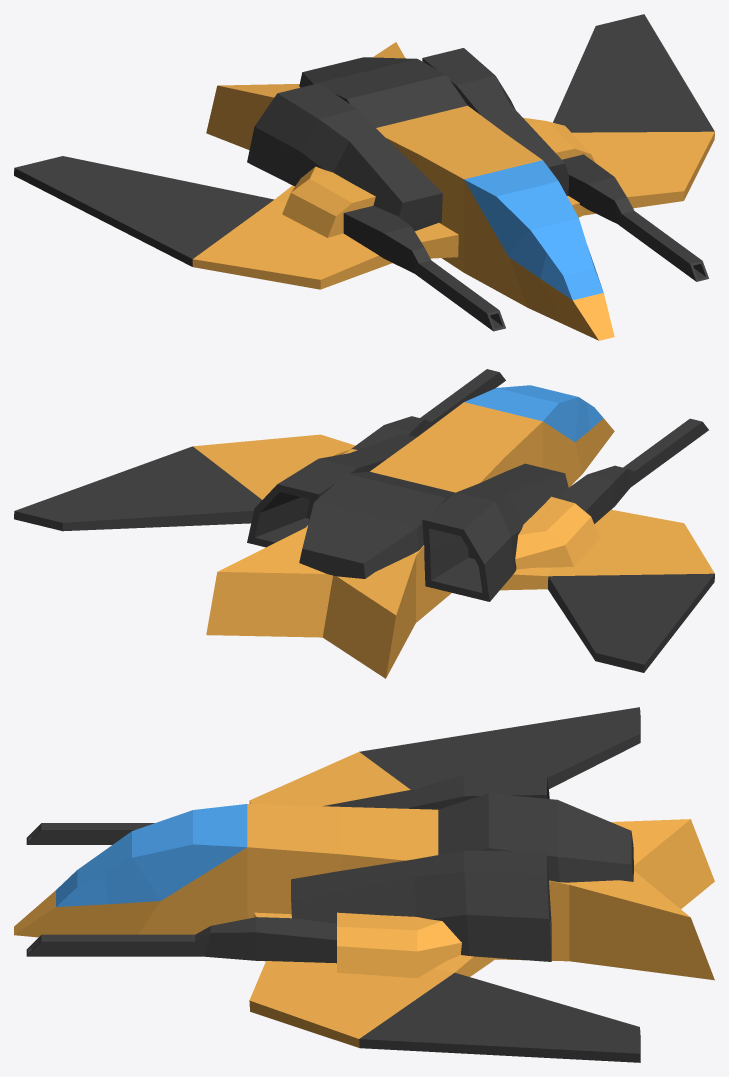
The model's file is t2_attacker.fbx.
3 views of the same model, one above another, from view 1: azimuth 30°, elevation 25°; view 2: azimuth 150°, elevation 25°; view 3: azimuth 270°, elevation 25° (orthographic). The views are drawn at different scales.
Visible parts, largest first — view 1: Attacker|Cube_L_Rocket_Attacker.blend|Dupli|; view 2: Attacker|Cube_L_Rocket_Attacker.blend|Dupli|; view 3: Attacker|Cube_L_Rocket_Attacker.blend|Dupli|.
Boxes of the visible parts, bbox=[...] form: Attacker|Cube_L_Rocket_Attacker.blend|Dupli|: bbox=[14, 14, 714, 340]; Attacker|Cube_L_Rocket_Attacker.blend|Dupli|: bbox=[14, 369, 714, 678]; Attacker|Cube_L_Rocket_Attacker.blend|Dupli|: bbox=[14, 707, 714, 1062].
Size of the model in its own units: 703 by 104 by 601.
